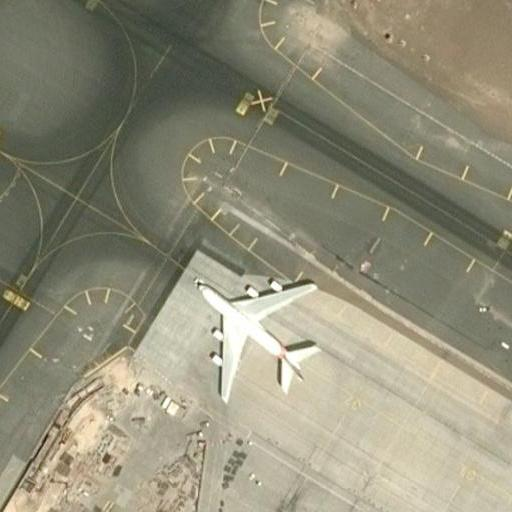Aircraft: (193, 258, 321, 405)
